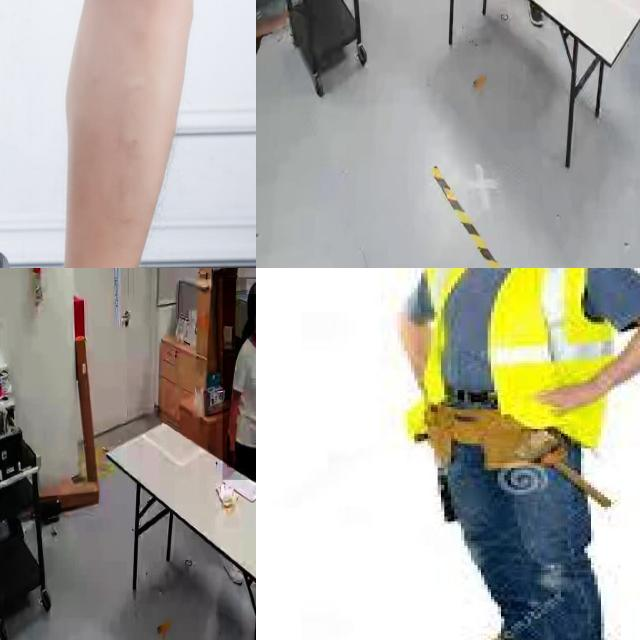hand_noglove: (227, 451, 237, 468)
head_nohelmet: (246, 279, 256, 295)
person: (222, 277, 256, 480)
vest: (406, 268, 616, 450)
